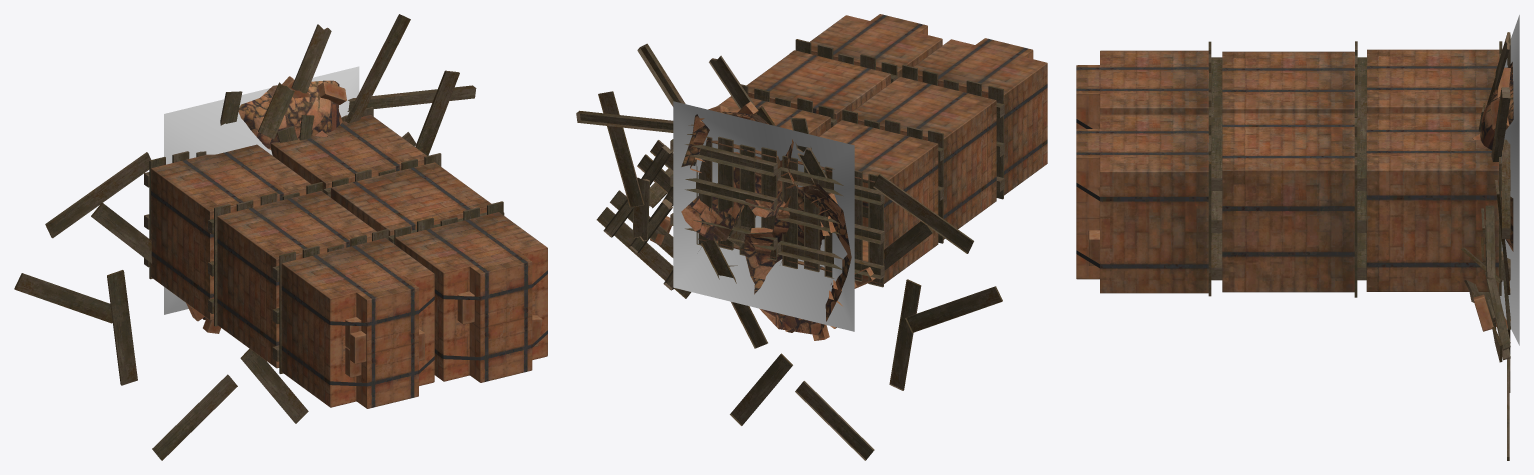
Rendered from hd_envAM_064_BlocksBrick_04.glb.
3 views of the same model, side by side, from view 1: azimuth 30°, elevation 25°; view 2: azimuth 150°, elevation 25°; view 3: azimuth 270°, elevation 25° (orthographic). The views are drawn at different scales.
Visible parts, largest first — view 1: set_0_group_2, set_0_group_1, set_0_group_0; view 2: set_0_group_2, set_0_group_1, set_0_group_0; view 3: set_0_group_2, set_0_group_1, set_0_group_0.
Part boxes in pixels (x1,y1,x2,y2): set_0_group_2: (144,107,547,408); set_0_group_1: (14,14,476,460); set_0_group_0: (164,66,359,314); set_0_group_2: (670,14,1047,287); set_0_group_1: (576,43,1002,460); set_0_group_0: (673,101,854,331); set_0_group_2: (1076,41,1510,297); set_0_group_1: (1461,32,1513,460); set_0_group_0: (1500,15,1519,345).
Size of the model in its own units: 4.4 by 3.65 by 3.29.
Materials: 3 (2 with a texture image).
